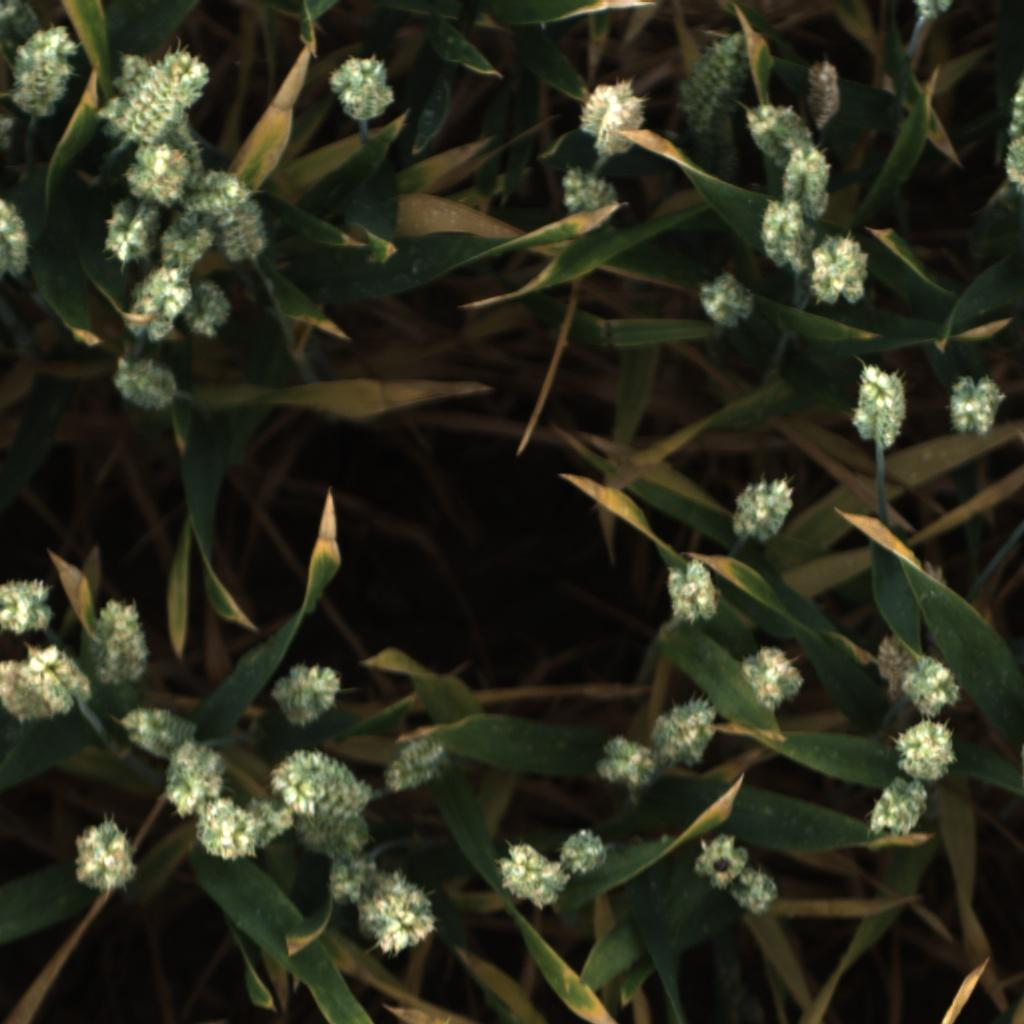0-0: (112, 53, 203, 159), (100, 49, 212, 134), (677, 26, 759, 135), (265, 745, 376, 824), (3, 27, 82, 124), (354, 872, 443, 957), (197, 164, 273, 262), (844, 355, 913, 452), (65, 811, 142, 896), (739, 93, 819, 172), (321, 50, 401, 125), (576, 73, 649, 154), (122, 266, 194, 347), (725, 475, 805, 547), (266, 657, 347, 728), (119, 134, 195, 209), (801, 232, 873, 310), (737, 640, 810, 716), (651, 689, 723, 765), (161, 741, 229, 821), (94, 592, 150, 689), (753, 195, 819, 276), (193, 792, 263, 868), (495, 841, 574, 906), (886, 718, 965, 783), (104, 353, 180, 420), (0, 655, 65, 728), (661, 559, 728, 629), (32, 640, 96, 713), (299, 802, 373, 863), (117, 702, 199, 757), (862, 778, 929, 845), (945, 369, 1006, 442), (780, 141, 833, 224), (549, 163, 622, 223), (378, 738, 452, 795), (896, 655, 964, 717), (318, 851, 388, 911), (98, 205, 161, 270), (694, 270, 758, 333), (688, 828, 753, 890), (0, 568, 58, 636), (595, 729, 660, 789), (182, 272, 237, 342), (237, 792, 298, 855), (159, 207, 208, 280), (0, 0, 47, 76), (874, 629, 922, 699), (550, 828, 611, 880), (804, 57, 844, 134), (730, 866, 782, 921), (0, 189, 31, 280), (92, 94, 128, 131), (1002, 133, 1024, 193), (1009, 74, 1024, 140), (913, 0, 954, 23), (1, 112, 19, 151)
